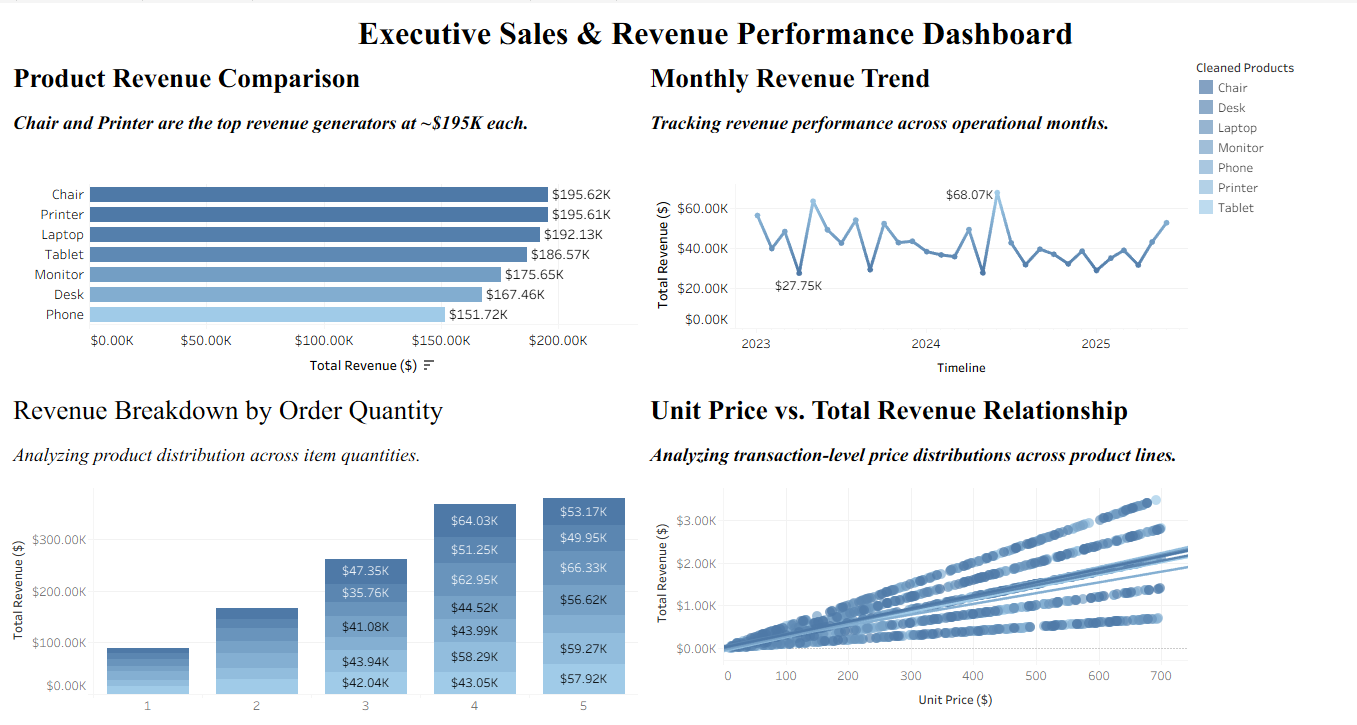

This screenshot's page, from the dashboard's own definition file:
{"tool":"tableau","page":{"name":"Dashboard 1","canvas":[1000,1000],"units":"permille","ordinal":0},"visuals":[{"type":"title","box":[5.8,11.1,988.5,60.8]},{"type":"worksheet","title":"Sheet 1","mark":"Automatic","rows":["Cleaned_Products"],"cols":["TotalPrice"],"box":[5.8,71.8,458.6,458.5]},{"type":"worksheet","title":"Sheet 2","mark":"Automatic","rows":["TotalPrice"],"cols":["Cleaned_Date"],"box":[464.4,71.8,396.3,458.6]},{"type":"legend","title":"Sheet 4","param":"[federated.1m3a5oi19o1xn01bnodfl0e8fwz5].[none:Cleaned_Products:nk]","box":[860.6,71.8,133.6,917.1]},{"type":"worksheet","title":"Sheet 3","mark":"Automatic","rows":["TotalPrice"],"cols":["Quantity"],"box":[5.8,530.3,458.6,458.7]},{"type":"worksheet","title":"Sheet 4","mark":"Circle","rows":["TotalPrice"],"cols":["UnitPrice"],"box":[464.4,530.4,396.3,458.6]}]}

Visuals, with their boxes on the dashboard's canvas, which has no fixed pixel size, in thousandths of its width and height (x1, y1, x2, y2). These are canvas units, not pixel positions in the 1357x725 screenshot, which may show the page scaled, cropped or inside an application window:
title: detection(6, 11, 994, 72)
"Sheet 1" worksheet: detection(6, 72, 464, 530)
"Sheet 2" worksheet: detection(464, 72, 861, 530)
"Sheet 4" legend: detection(861, 72, 994, 989)
"Sheet 3" worksheet: detection(6, 530, 464, 989)
"Sheet 4" worksheet (Circle marks): detection(464, 530, 861, 989)
